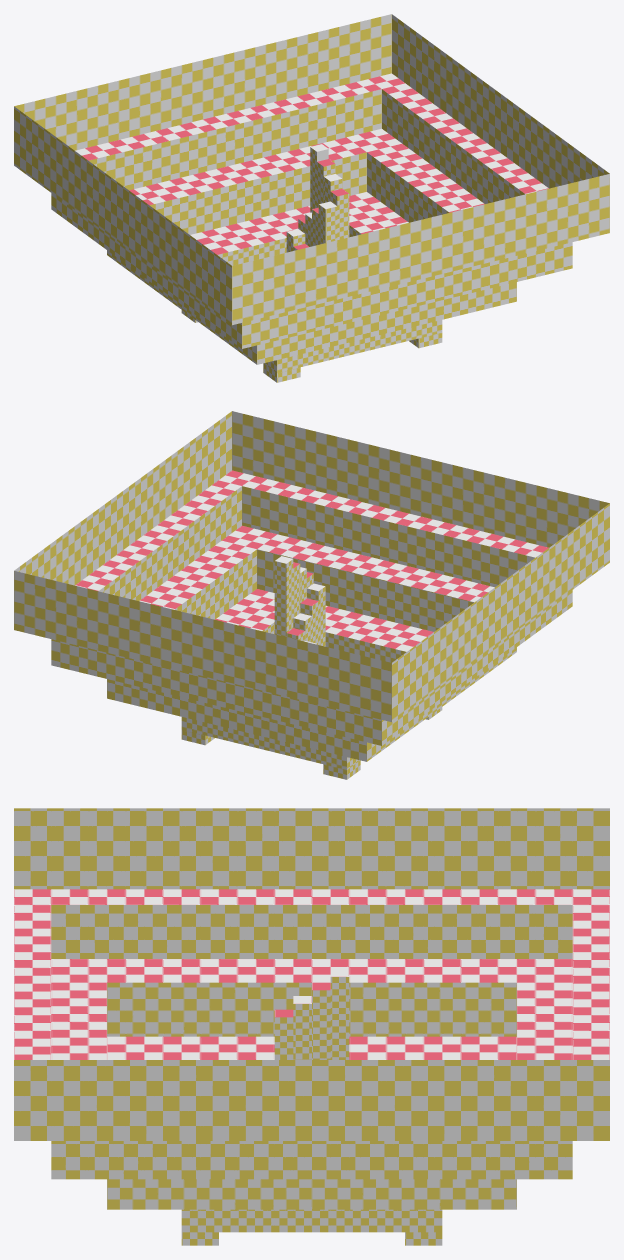
Rendered from Beta-Map_002.glb.
The picture shows the model from 3 angles, top to bottom: view 1: azimuth 30°, elevation 25°; view 2: azimuth 150°, elevation 25°; view 3: azimuth 270°, elevation 25°; orthographic projection. The views are drawn at different scales.
Parts seen in each view (by area): view 1: Plane; view 2: Plane; view 3: Plane.
Part boxes in pixels (<box>): Plane: <box>14,14,609,382</box>; Plane: <box>14,411,609,779</box>; Plane: <box>14,808,609,1245</box>.
Size of the model in its own units: 40 by 19 by 40.
Materials: 2 (2 with a texture image).
